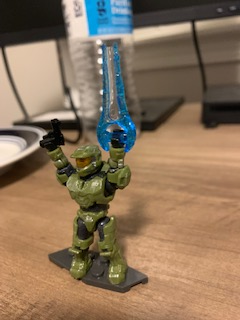chief: (40, 130, 134, 287)
pistol: (39, 118, 68, 154)
spartan: (38, 128, 132, 285)
up: (40, 132, 134, 212)
